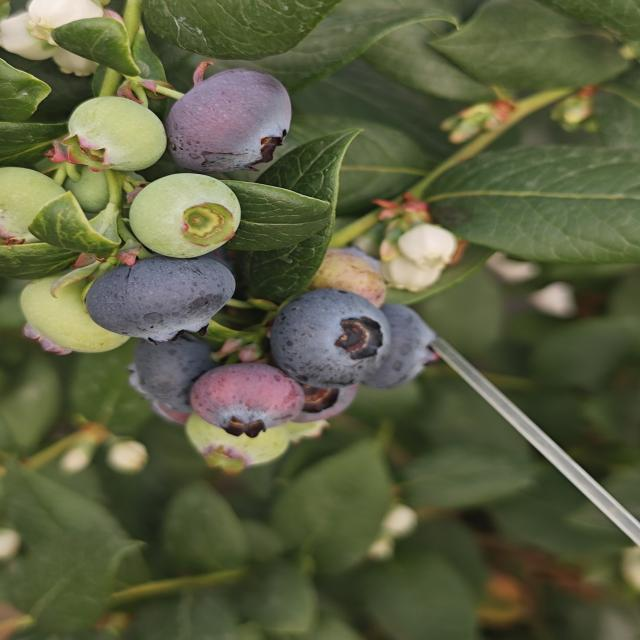ripe: (154, 68, 312, 174), (78, 250, 242, 347), (262, 277, 390, 385), (121, 337, 232, 414), (382, 292, 458, 398), (271, 364, 368, 431)
